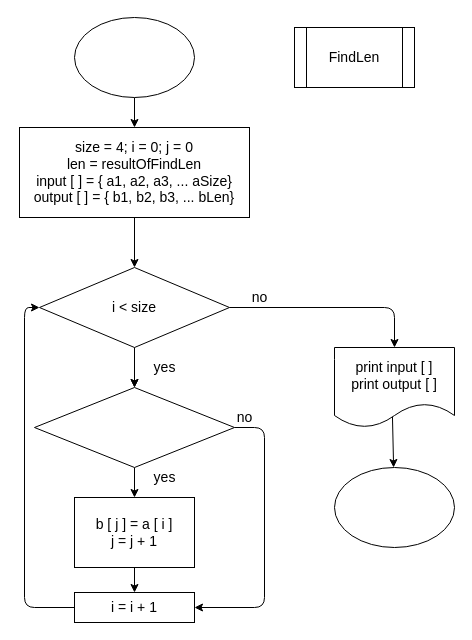
This 472x640 diagram has some shape labels left out. The centre of each missing label's shape, as x and y in pixels:
"End" belongs at pixel 394 507.
"length (a [ i ]) <= 3" belongs at pixel 134 427.
"Start" belongs at pixel 134 57.
